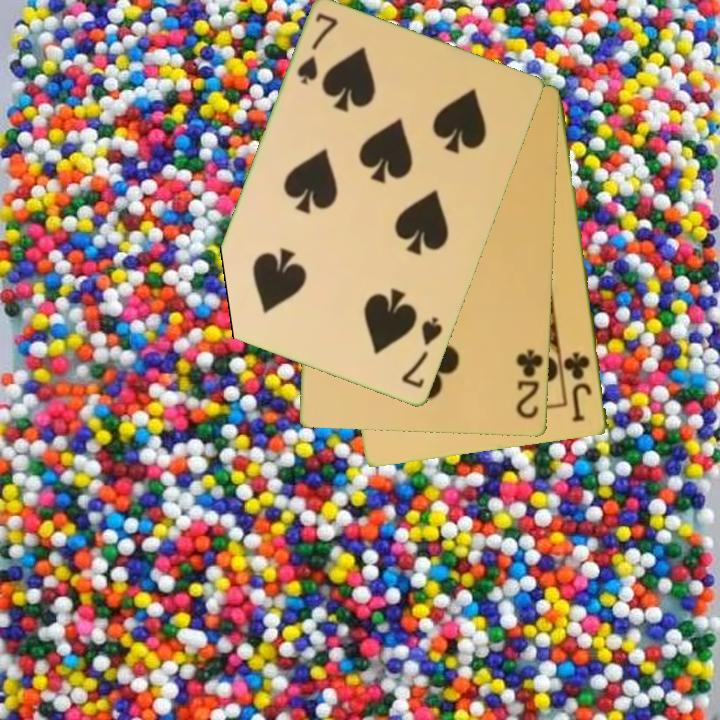2c: (513, 346, 546, 422)
7s: (398, 314, 446, 392), (293, 10, 341, 88)
Jc: (562, 349, 595, 426)
